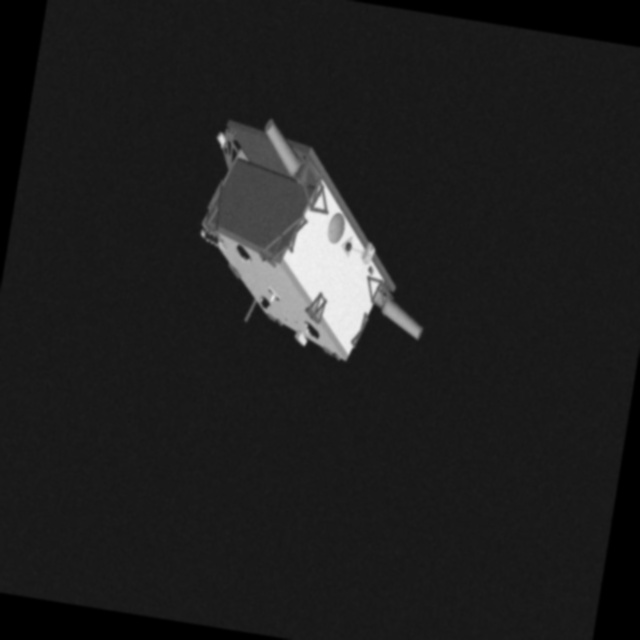medium_debris: (175, 106, 454, 380)
